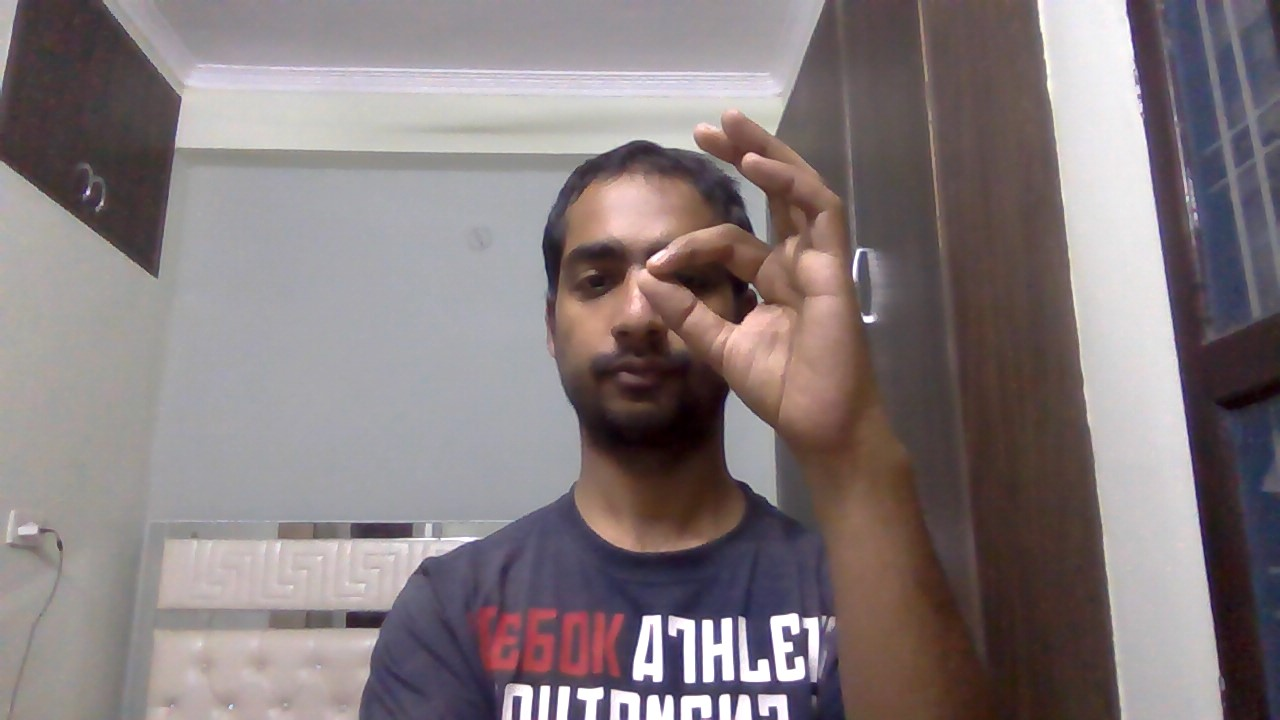Copy: (625, 103, 901, 458)
